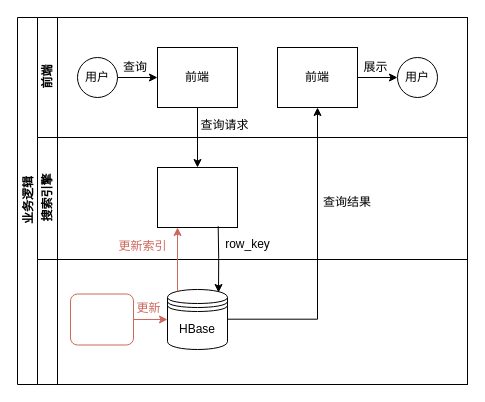
The diagram is 485 pixels wide and 402 high, and some of its shapes have lost their labels. Each missing label, with the box of its shape:
搜索引擎 (ES, Milvus): (156, 166, 238, 228)
数据库: (36, 258, 468, 384)
爬虫: (70, 293, 134, 345)
